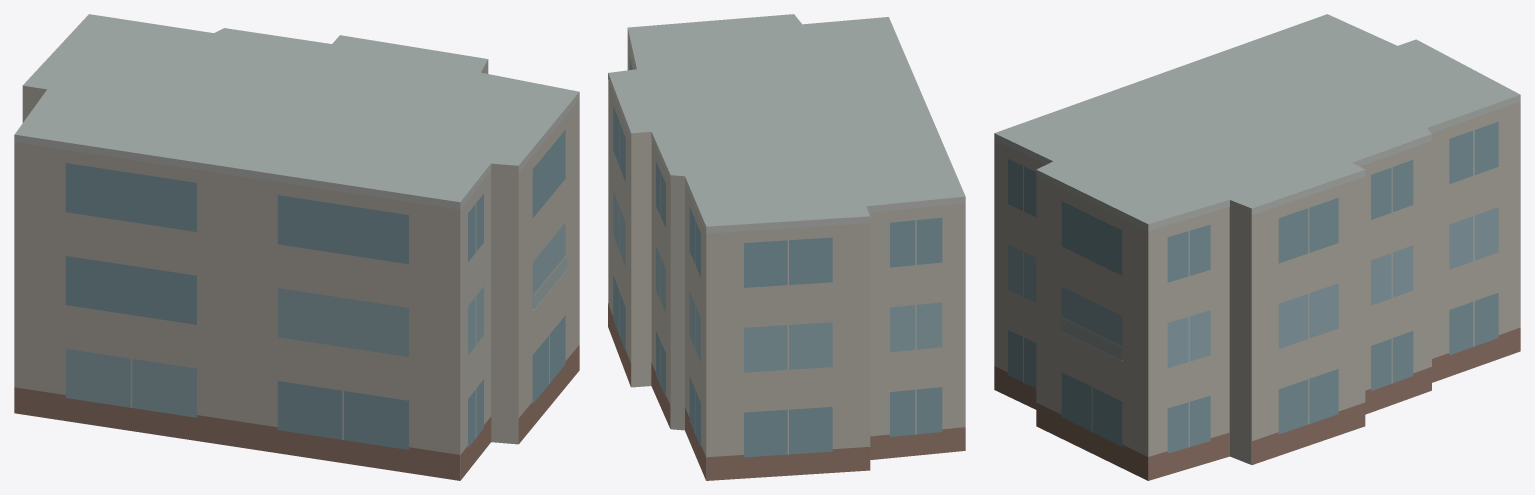
Rendered from survey-upis-32677976.glb.
3 renders of one model, left to right at view 1: azimuth 30°, elevation 25°; view 2: azimuth 150°, elevation 25°; view 3: azimuth 270°, elevation 25°, orthographic. The views are drawn at different scales.
Parts seen in each view (by area): view 1: survey-upis-32677976.tmp; view 2: survey-upis-32677976.tmp; view 3: survey-upis-32677976.tmp.
Part boxes in pixels (left/top/right/bottom): survey-upis-32677976.tmp: left=14, top=14, right=579, bottom=480; survey-upis-32677976.tmp: left=608, top=14, right=965, bottom=480; survey-upis-32677976.tmp: left=994, top=14, right=1520, bottom=480.
Bounding box in the file's own units: 16.09 × 9.15 × 17.02.
